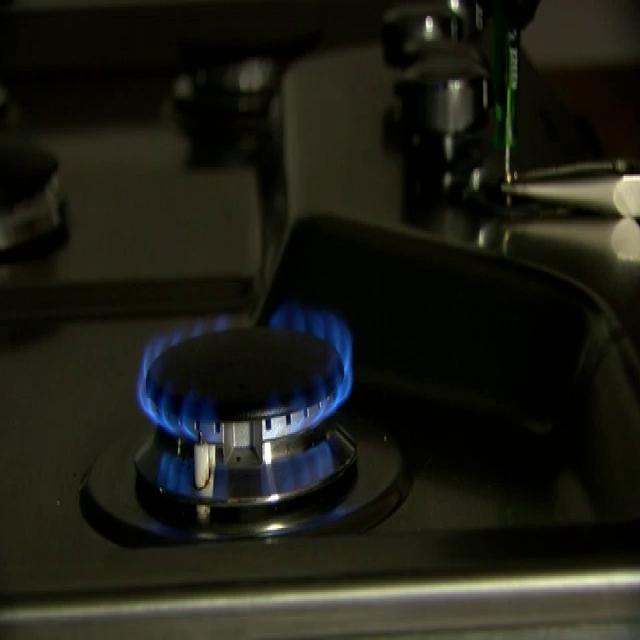fire: (129, 249, 373, 533)
